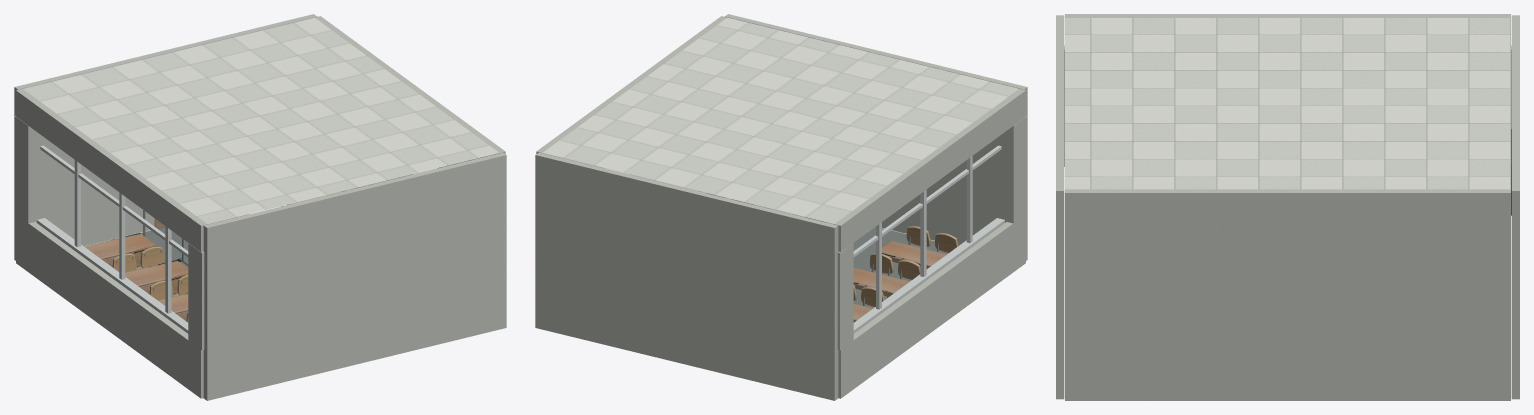
File: room-K01-F03-T008.glb
3 views of the same model, side by side, from view 1: azimuth 30°, elevation 25°; view 2: azimuth 150°, elevation 25°; view 3: azimuth 270°, elevation 25° (orthographic). The views are drawn at different scales.
Parts seen in each view (by area): view 1: room-K01-F03-T008-mesh (×16); view 2: room-K01-F03-T008-mesh (×16); view 3: room-K01-F03-T008-mesh (×5).
Part boxes in pixels (x1,y1,x2,y2): room-K01-F03-T008-mesh (×16): [14, 14, 506, 400]; room-K01-F03-T008-mesh (×16): [535, 14, 1027, 400]; room-K01-F03-T008-mesh (×5): [1056, 14, 1519, 400].
Size of the model in its own units: 6.05 by 3.28 by 6.63.
13 materials, 8 textured.
